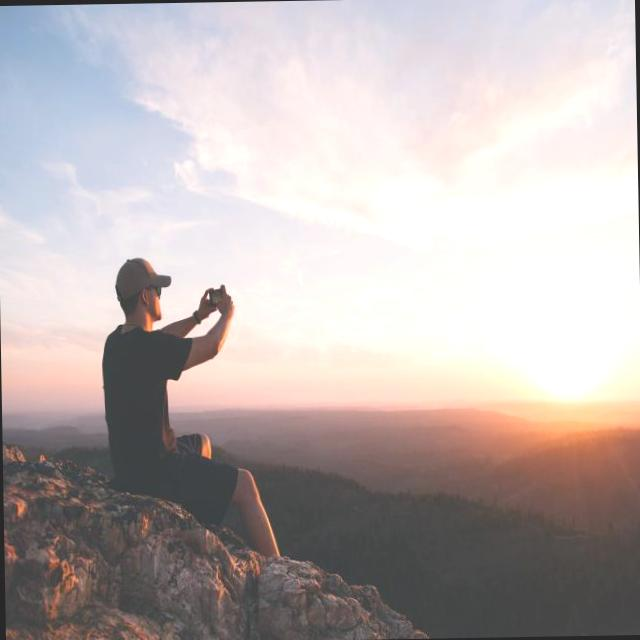person: (99, 254, 280, 561)
